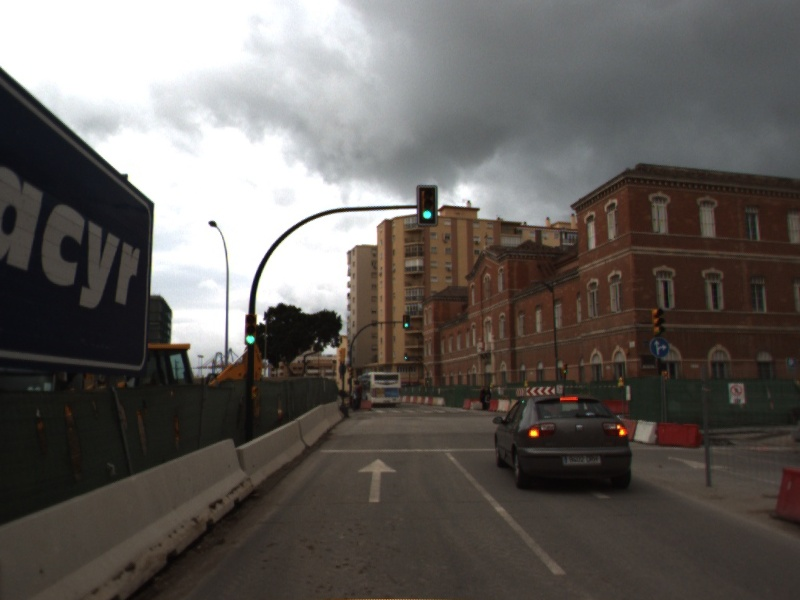STRAIGHT: (355, 457, 400, 504)
